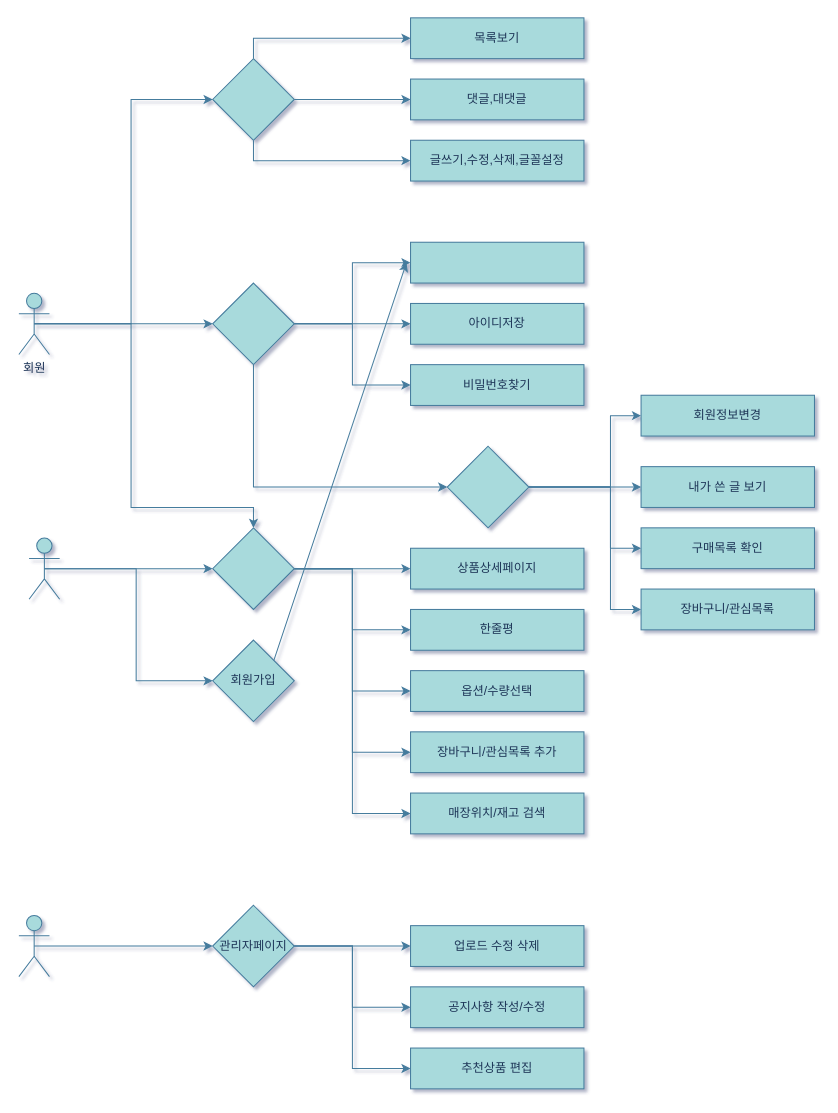
Image size: 838x1113. Some labels were removed from this diagram. Each missing label, with the centre of its shape:
게시판: point 253,99
로그인/로그아웃: point 497,262
마이페이지: point 487,486
비회원: point 44,568
상품페이지: point 253,568
운영자: point 33,945
회원관리: point 253,323
